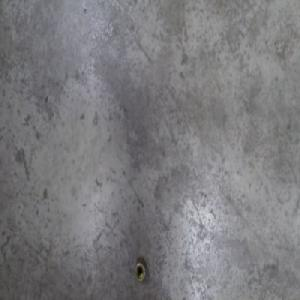Nut: (134, 259, 147, 284)
